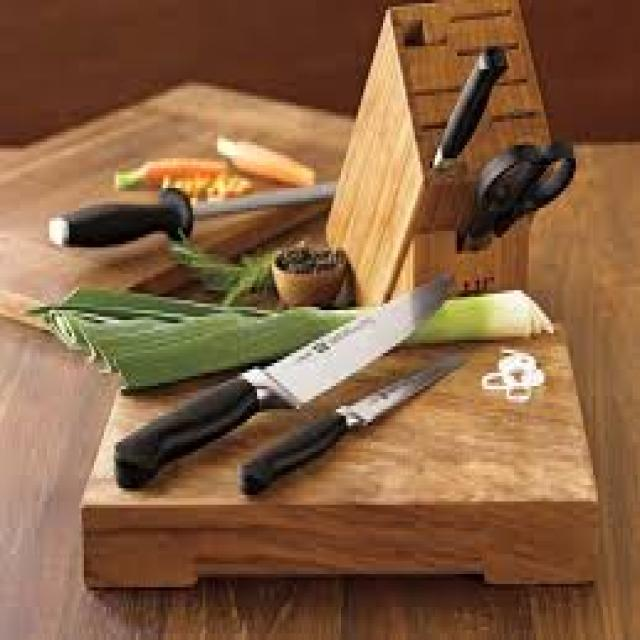Knife: (72, 263, 529, 489)
